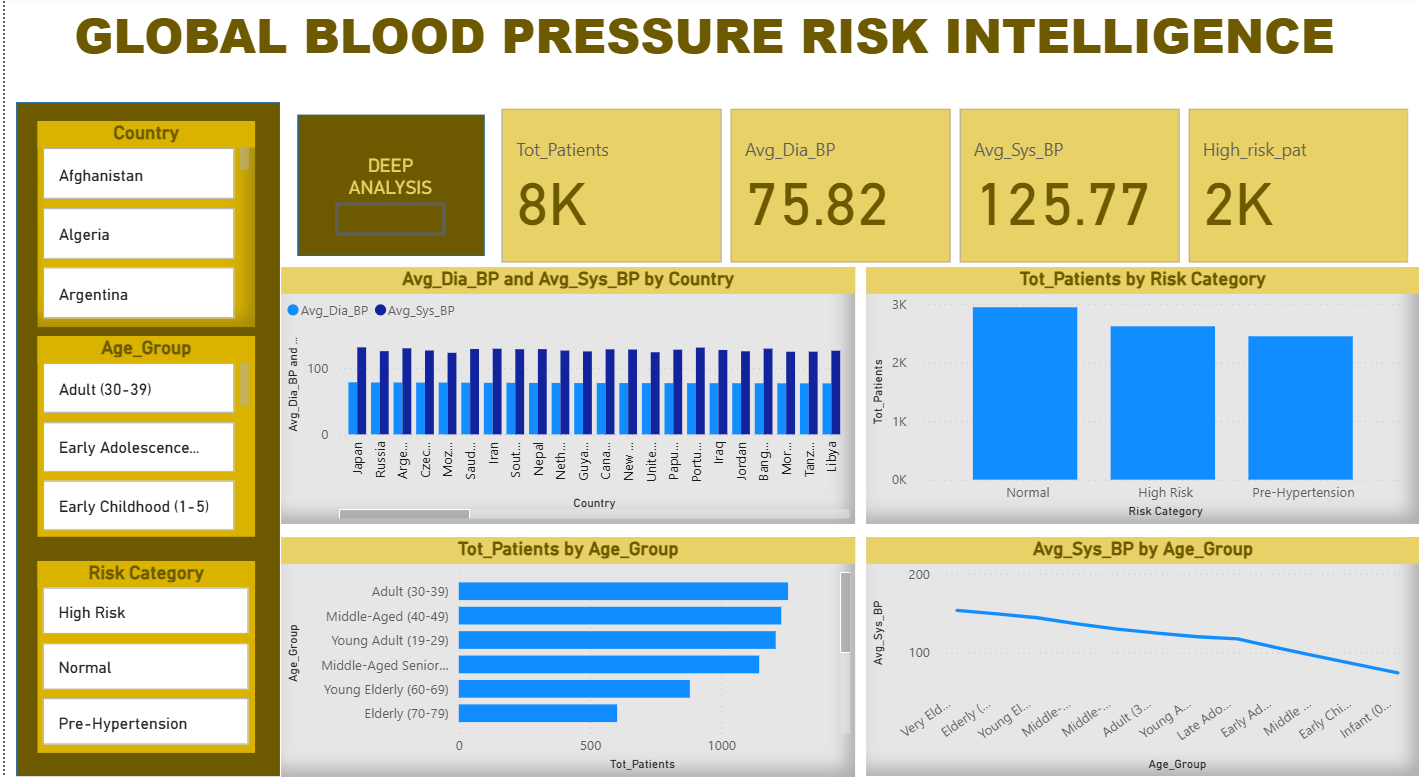

The dashboard page shown, as its layout file describes it:
{"tool":"powerbi","page":{"name":"Global BP","canvas":[1280,720],"ordinal":0},"visuals":[{"type":"textbox","box":[10.1,0,1259.3,77.6],"z":0},{"type":"cardVisual","fields":{"Data":["blood_pressure_global_dataset.Tot_Patients","blood_pressure_global_dataset.Avg_Dia_BP","blood_pressure_global_dataset.Avg_Sys_BP","blood_pressure_global_dataset.High_risk_pat"]},"box":[444.6,96.9,833.8,149.2],"z":1000},{"type":"clusteredColumnChart","fields":{"Category":["blood_pressure_global_dataset.Country"],"Y":["blood_pressure_global_dataset.Avg_Dia_BP","blood_pressure_global_dataset.Avg_Sys_BP"]},"box":[249.3,245.9,519.3,232.1],"z":2000},{"type":"columnChart","fields":{"Category":["blood_pressure_global_dataset.Risk Category"],"Y":["blood_pressure_global_dataset.Tot_Patients"]},"box":[778.9,245.9,500.4,232.1],"z":3000},{"type":"barChart","fields":{"Category":["blood_pressure_global_dataset.Age_Group"],"Y":["blood_pressure_global_dataset.Tot_Patients"]},"box":[249.3,490.1,519.3,216.7],"z":4000},{"type":"lineChart","fields":{"Category":["blood_pressure_global_dataset.Age_Group"],"Y":["blood_pressure_global_dataset.Avg_Sys_BP"]},"box":[778.6,489.8,500.5,216],"z":5000},{"type":"shape","box":[10.1,96.3,238.6,609.5],"z":6000},{"type":"advancedSlicerVisual","fields":{"Values":["blood_pressure_global_dataset.Country"]},"box":[29.9,113.4,196.8,186.1],"z":7000},{"type":"advancedSlicerVisual","fields":{"Values":["blood_pressure_global_dataset.Age_Group"]},"box":[29.9,308,196.8,181.8],"z":8000},{"type":"advancedSlicerVisual","fields":{"Values":["blood_pressure_global_dataset.Risk Category"]},"box":[29.9,511.2,196.8,173.3],"z":9000},{"type":"shape","box":[264.6,107.7,169.2,127.7],"z":10000},{"type":"actionButton","title":"DEEP ANALYSIS","box":[298.9,143.3,100,73.3],"z":11000}]}

Visuals, with their boxes in screenshot pixels (x1, y1, x2, y2), scaled from the page's 1280x720 canvas onto the 1419x777 screenshot:
textbox: BBox(11, 0, 1407, 84)
cardVisual - blood_pressure_global_dataset.Tot_Patients x blood_pressure_global_dataset.Avg_Dia_BP: BBox(493, 105, 1417, 266)
clusteredColumnChart - blood_pressure_global_dataset.Country x blood_pressure_global_dataset.Avg_Dia_BP: BBox(276, 265, 852, 516)
columnChart - blood_pressure_global_dataset.Risk Category x blood_pressure_global_dataset.Tot_Patients: BBox(863, 265, 1418, 516)
barChart - blood_pressure_global_dataset.Age_Group x blood_pressure_global_dataset.Tot_Patients: BBox(276, 529, 852, 763)
lineChart - blood_pressure_global_dataset.Age_Group x blood_pressure_global_dataset.Avg_Sys_BP: BBox(863, 529, 1418, 762)
shape: BBox(11, 104, 276, 762)
advancedSlicerVisual - blood_pressure_global_dataset.Country: BBox(33, 122, 251, 323)
advancedSlicerVisual - blood_pressure_global_dataset.Age_Group: BBox(33, 332, 251, 529)
advancedSlicerVisual - blood_pressure_global_dataset.Risk Category: BBox(33, 552, 251, 739)
shape: BBox(293, 116, 481, 254)
"DEEP ANALYSIS" actionButton: BBox(331, 155, 442, 234)
